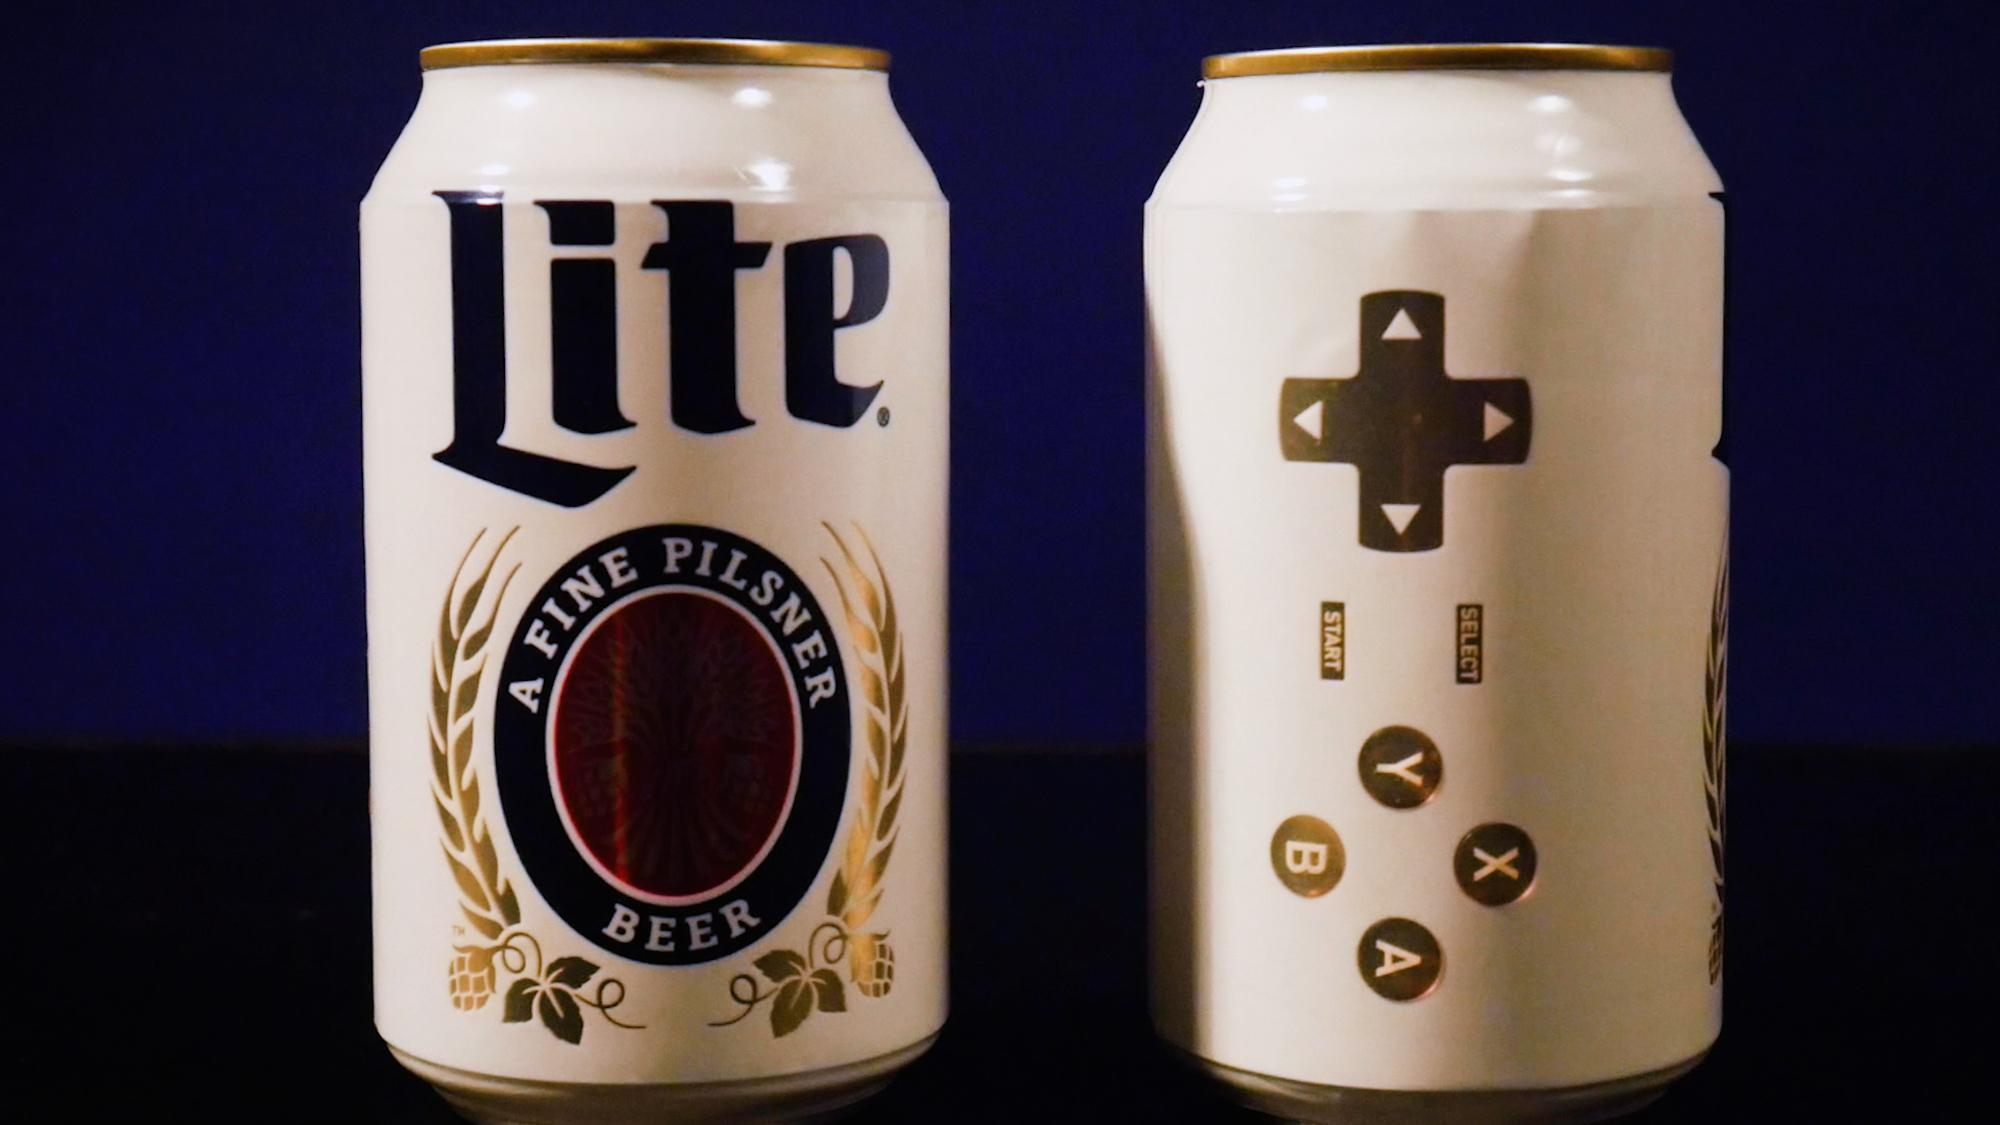beer can: (359, 34, 962, 1103), (1117, 54, 1731, 1092)
